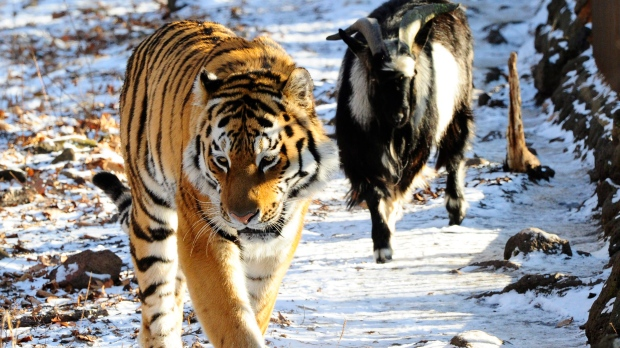Tiger: (112, 22, 321, 338)
